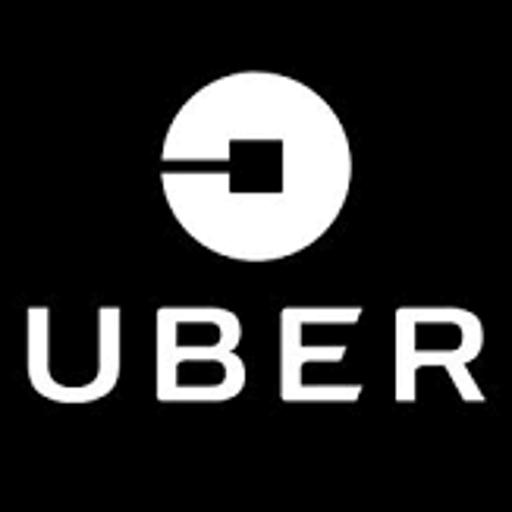Uber: (0, 64, 512, 447)
